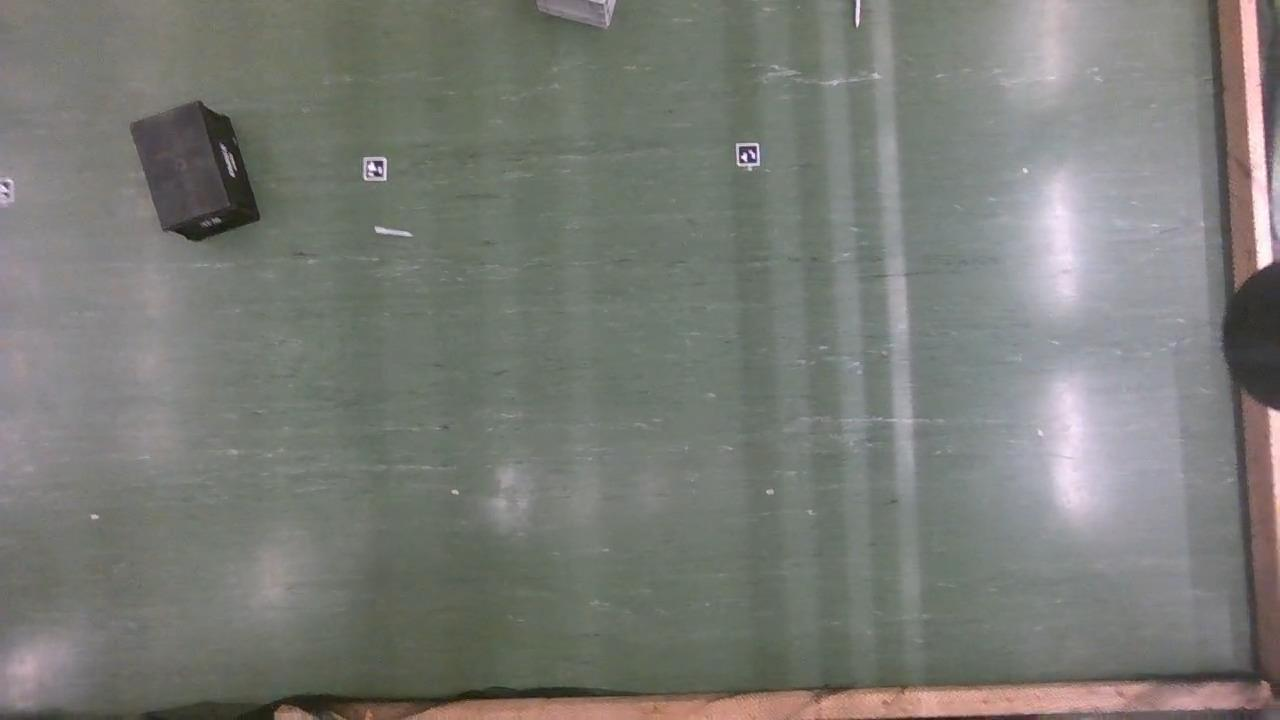probes: (374, 226, 410, 237), (854, 0, 864, 30)
rako: (130, 103, 259, 246)
